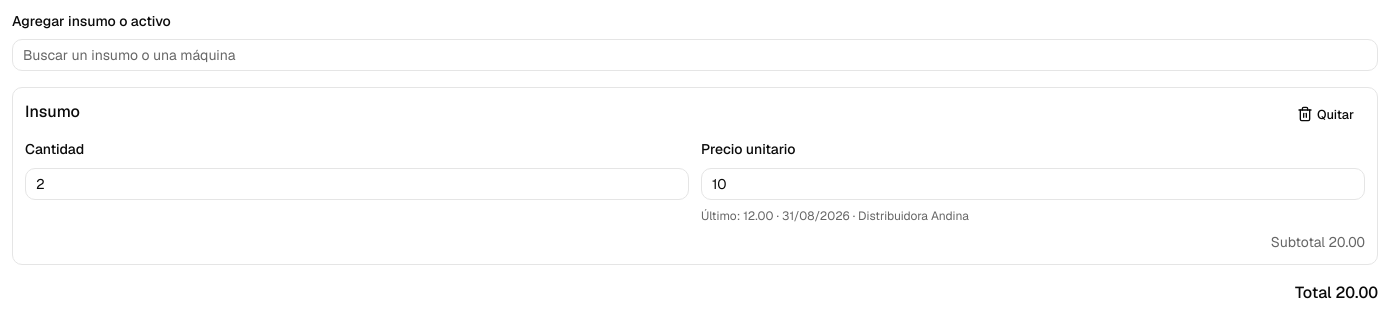
Test: PurchaseLinesTable › el total sigue a las filas: cambiar 2 por 5 lo actualiza sin recargar
Expected: the text with test id "purchase-form-total" reads "20.00", [1335,282,1378,302]
Replace the text in the number field labelled "Cantidad" with "5" at (357, 184), box [25,168,689,200]
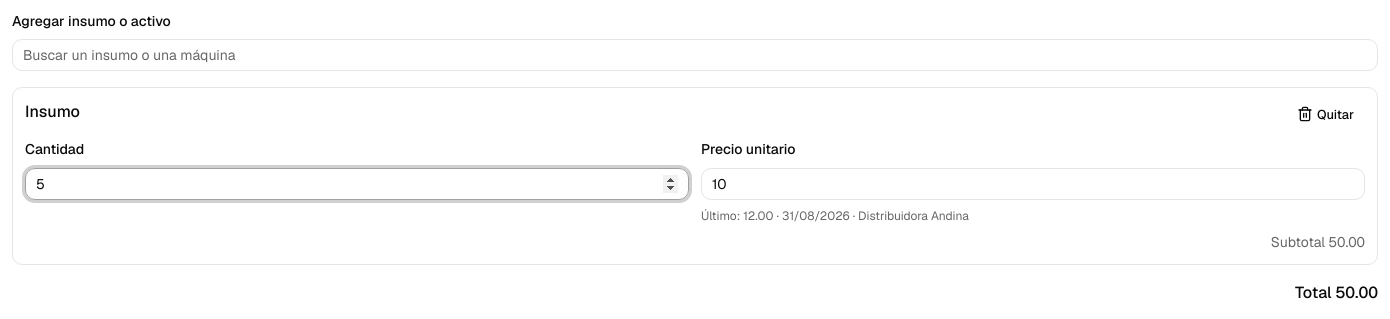
Now the text with test id "purchase-form-total" reads "50.00", box [1335,282,1378,302]
